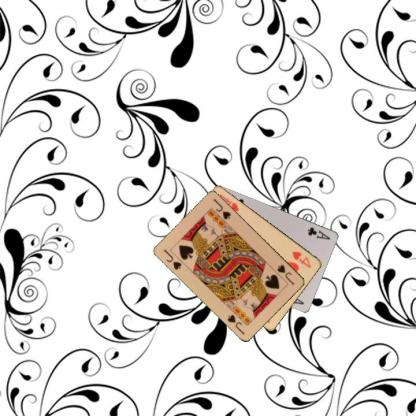4h: (290, 249, 312, 270)
Ac: (305, 224, 332, 241)
Js: (161, 246, 183, 271), (275, 262, 296, 286)
